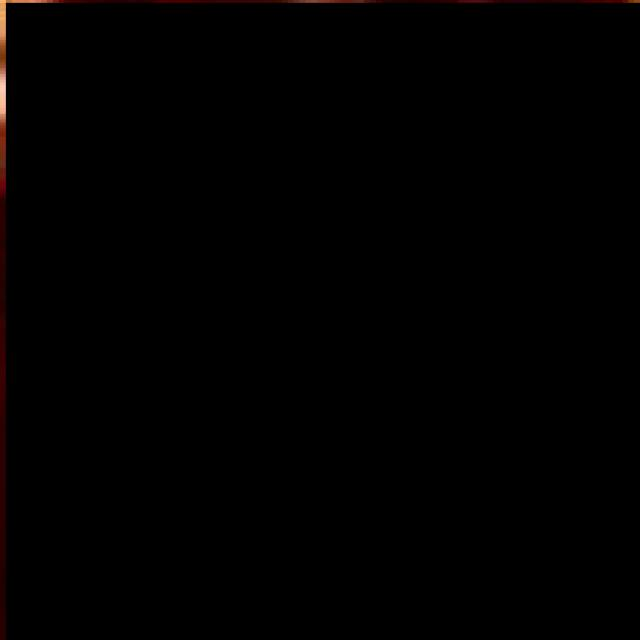nofire: (6, 3, 640, 640)
